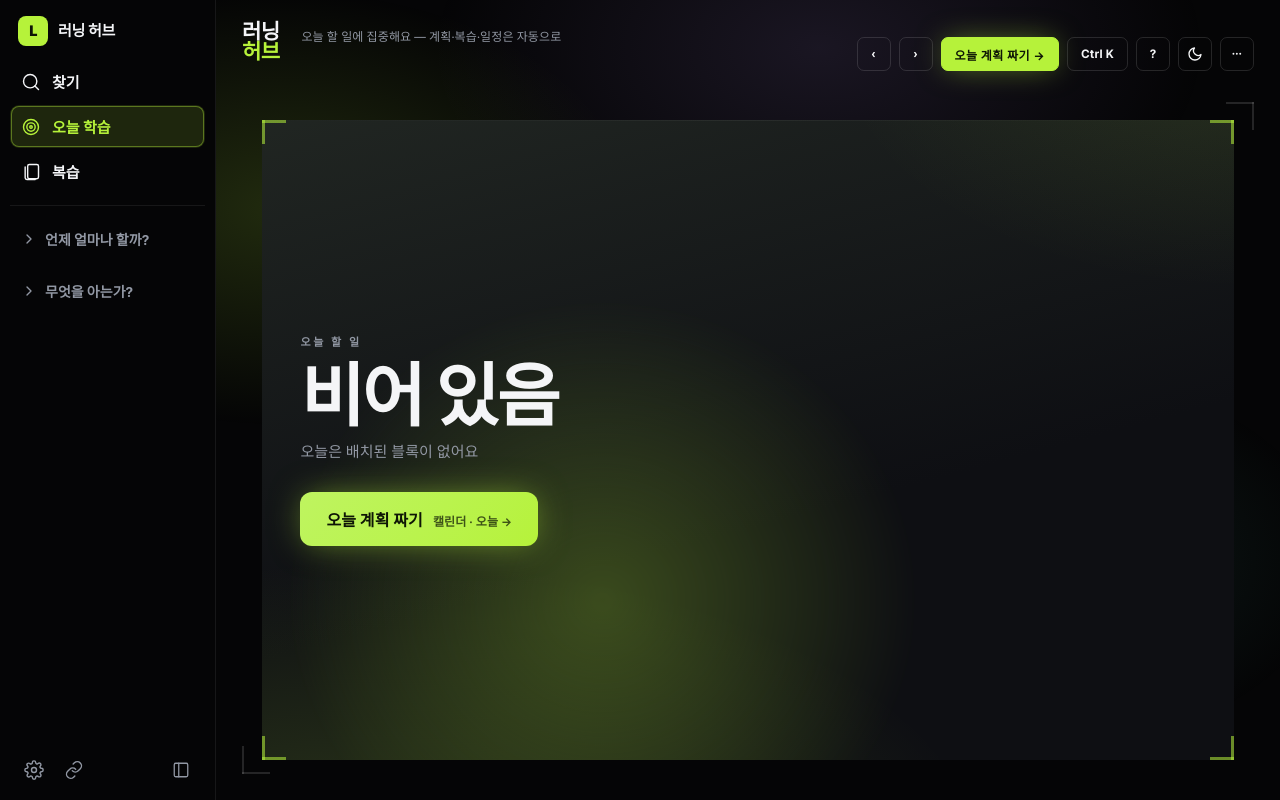
Test: 상단 바 액션 "오늘 계획 짜기 →"도 같은 목적지(일 뷰 · 오늘)
Click the button "오늘 계획 짜기 →" at point(1000, 54), box [940, 37, 1059, 71]
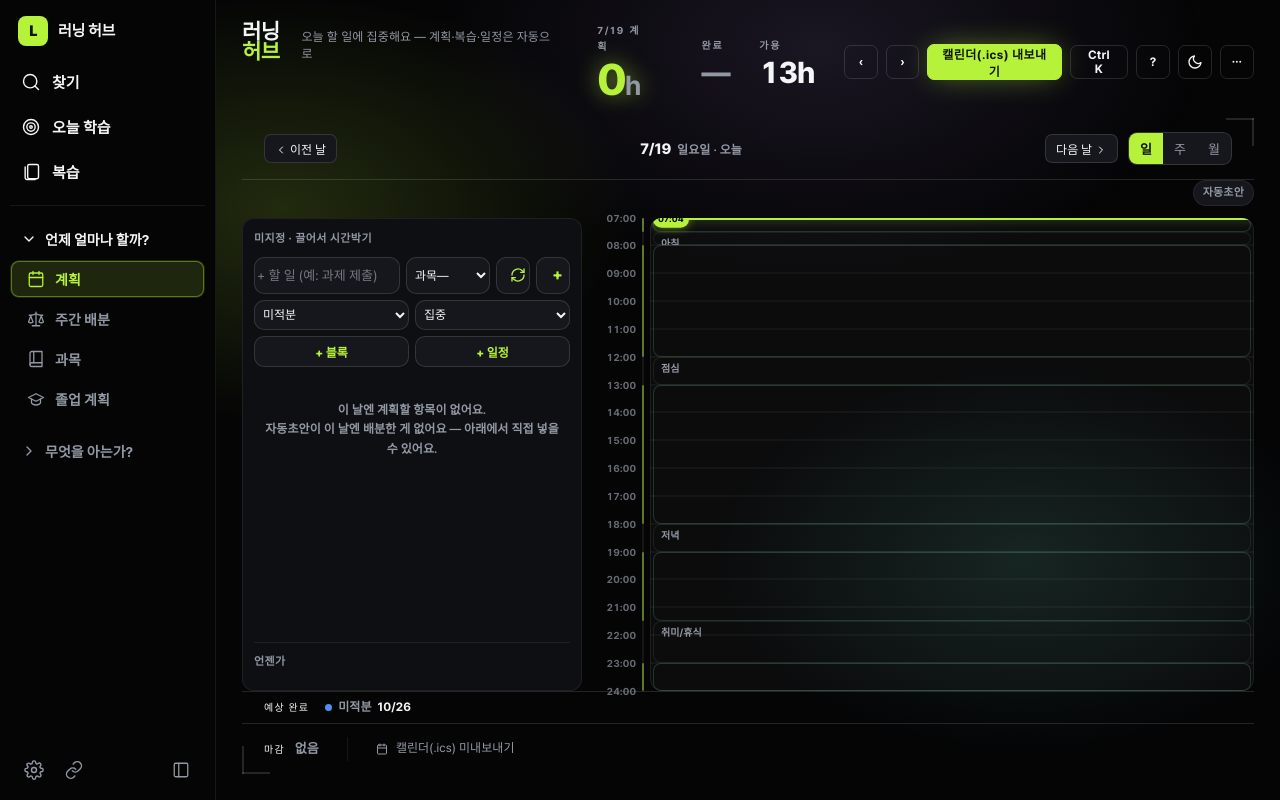
Expected: the button labelled "이전 날" is shown, [264, 134, 337, 163]
